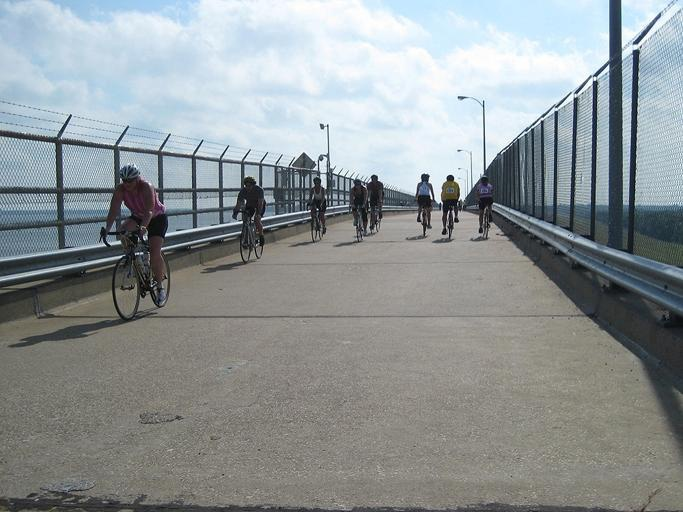non-vehicle: (97, 223, 171, 321), (230, 208, 264, 264), (474, 198, 495, 240), (414, 198, 436, 236), (347, 202, 367, 243), (305, 200, 324, 242), (445, 199, 461, 239), (366, 199, 382, 235)
